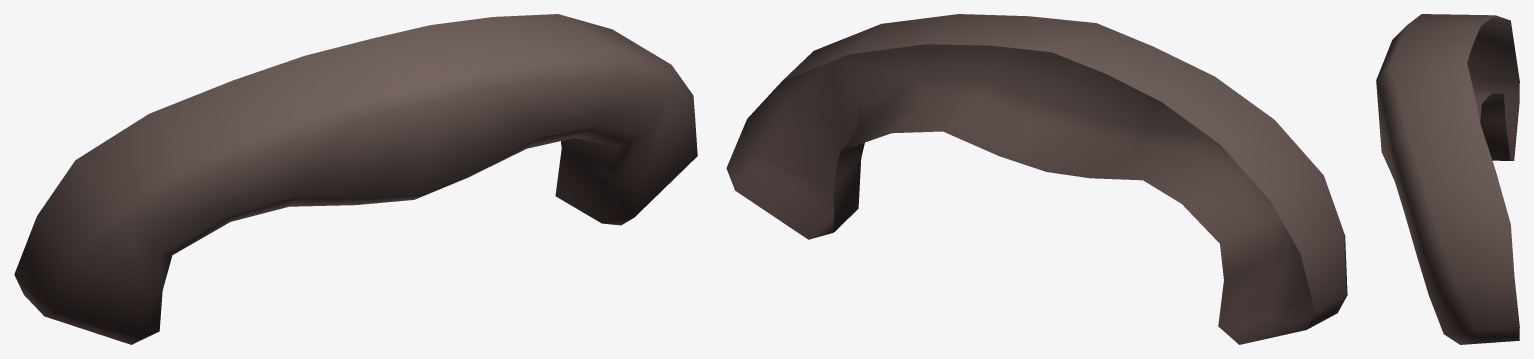
Rendered from Mustache_15.glb.
The picture shows the model from 3 angles, left to right: view 1: azimuth 30°, elevation 25°; view 2: azimuth 150°, elevation 25°; view 3: azimuth 270°, elevation 25°; orthographic projection. The views are drawn at different scales.
Visible parts, largest first — view 1: Mustache_15; view 2: Mustache_15; view 3: Mustache_15.
Boxes of the visible parts, box(x1,y1,x2,y2) form: Mustache_15: box(14, 14, 697, 344); Mustache_15: box(726, 14, 1347, 344); Mustache_15: box(1376, 14, 1519, 344).
Size of the model in its own units: 0.2073 by 0.0731 by 0.0503.
Materials: 1 (1 with a texture image).
